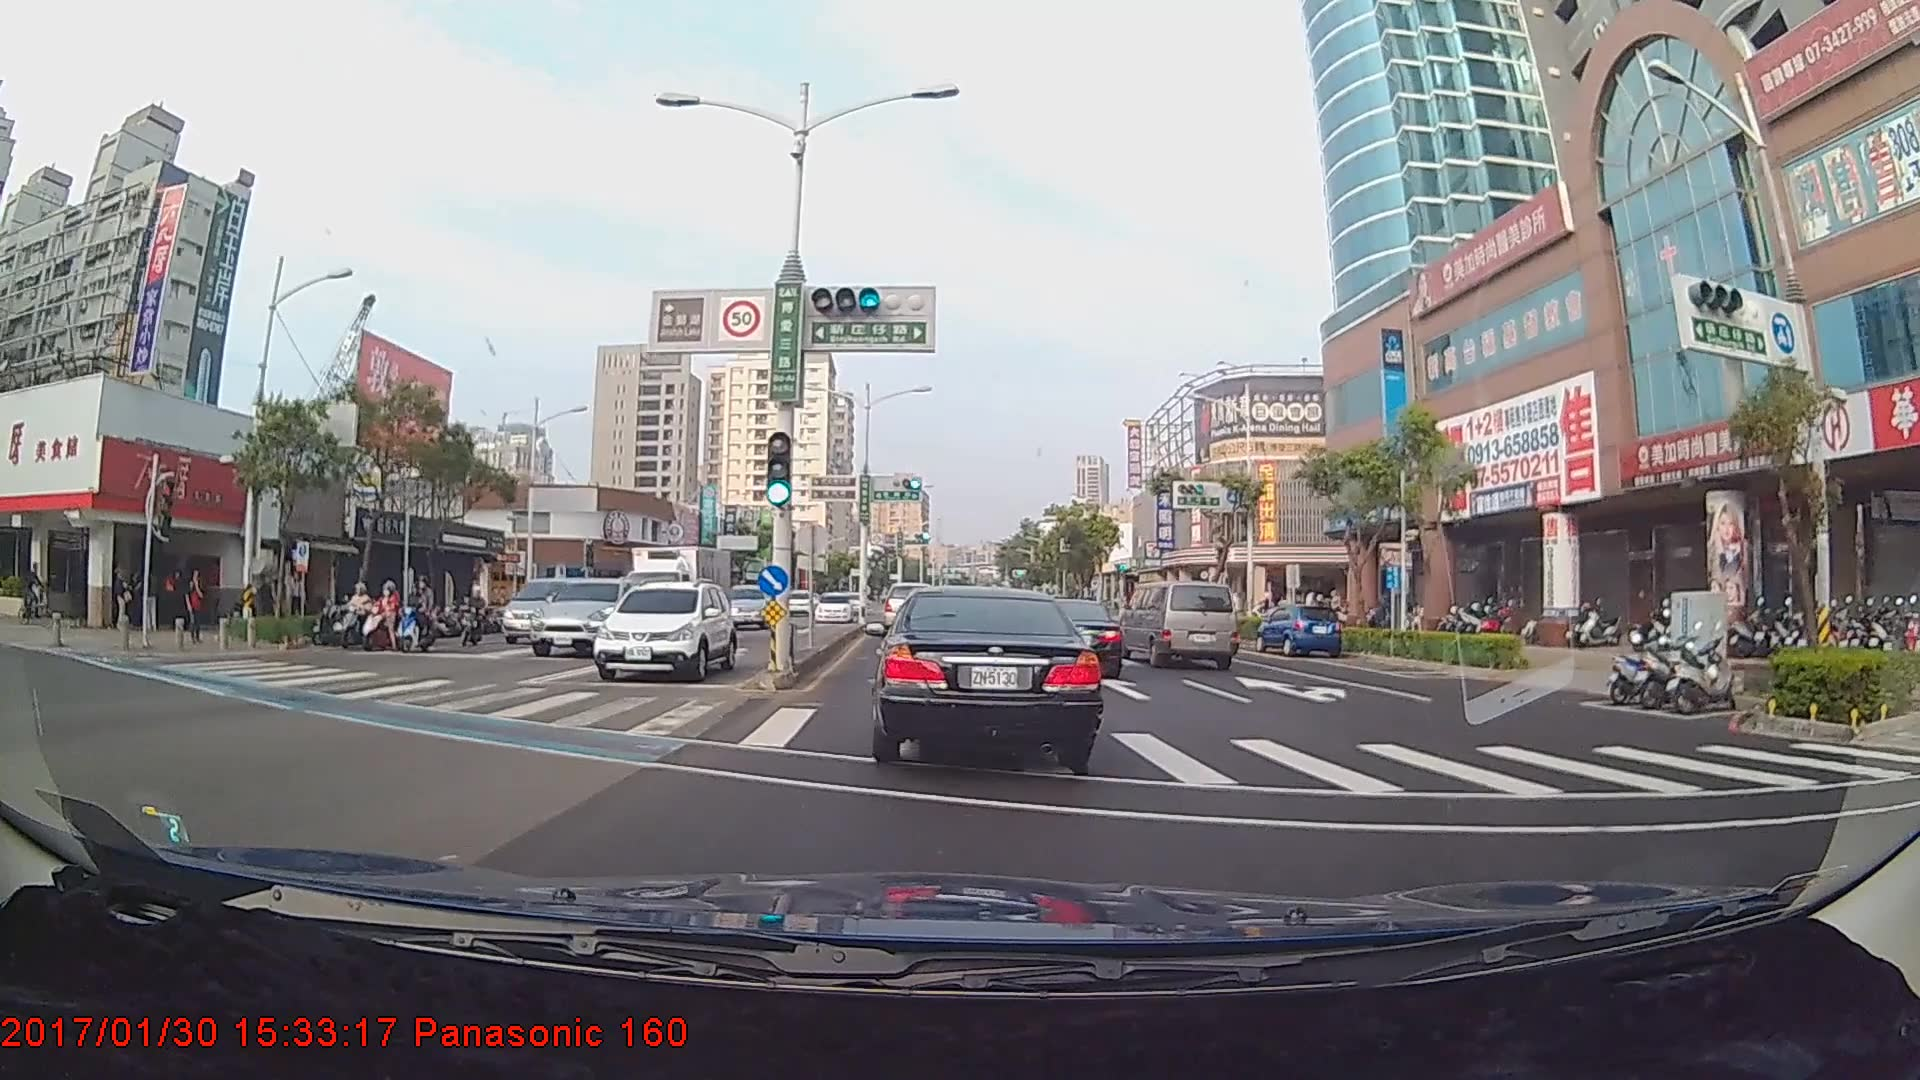pedestrian: (112, 559, 137, 630), (139, 566, 162, 634), (186, 569, 207, 642)
rider: (355, 576, 415, 652), (390, 573, 445, 652), (321, 578, 376, 648), (13, 561, 54, 622)
vehicle: (874, 584, 1096, 762), (593, 575, 735, 681), (614, 532, 742, 645), (1121, 581, 1238, 669), (528, 574, 638, 655), (1019, 596, 1120, 678), (498, 574, 589, 644), (1258, 602, 1342, 658), (722, 579, 782, 629), (883, 577, 936, 631), (813, 584, 849, 615)
